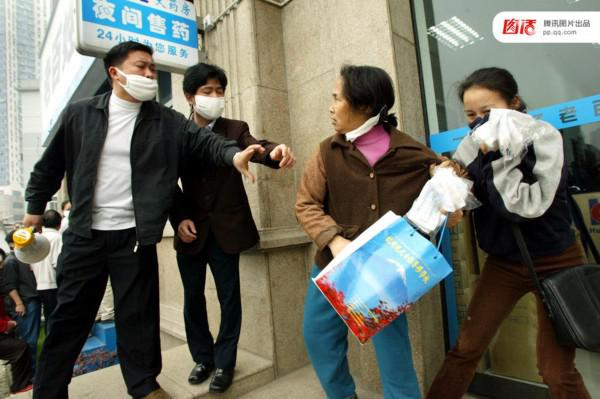NONE: (465, 100, 510, 143), (329, 90, 365, 133)
OK: (195, 85, 227, 117)
WRONG: (119, 59, 160, 100)
